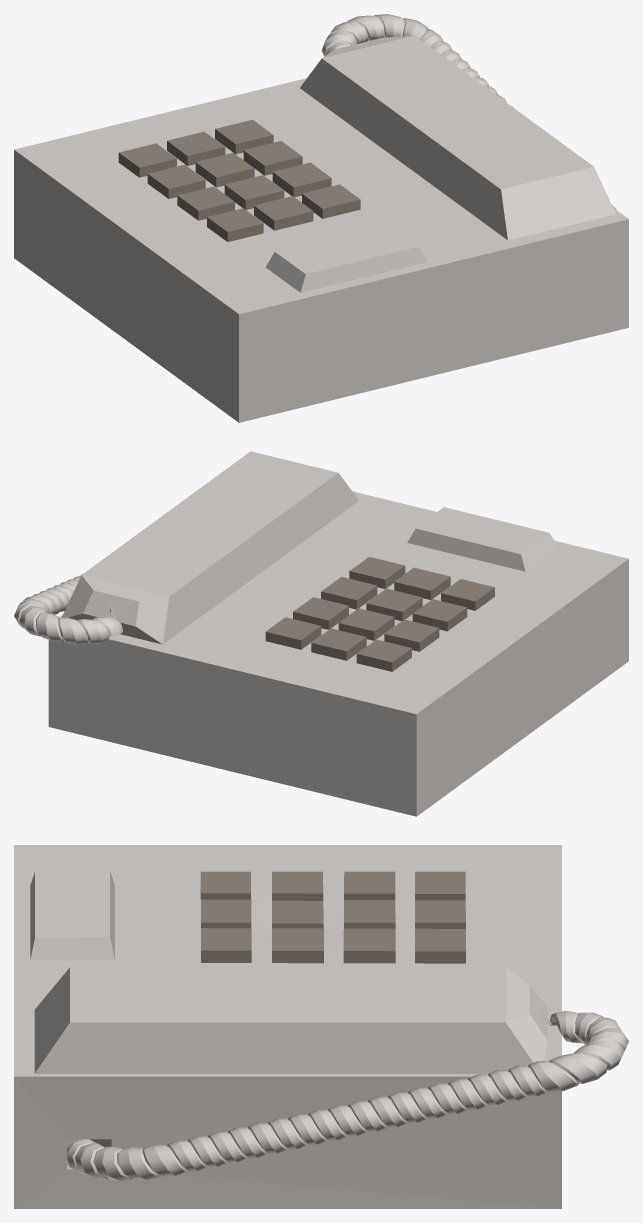
Rendered from fbx_landline_phone.fbx.
3 views of the same model, one above another, from view 1: azimuth 30°, elevation 25°; view 2: azimuth 150°, elevation 25°; view 3: azimuth 270°, elevation 25° (orthographic). The views are drawn at different scales.
Parts seen in each view (by area): view 1: fbx_landline_phone; view 2: fbx_landline_phone; view 3: fbx_landline_phone.
Part boxes in pixels (left/top/right/bottom): fbx_landline_phone: left=14, top=14, right=628, bottom=422; fbx_landline_phone: left=14, top=451, right=628, bottom=816; fbx_landline_phone: left=14, top=845, right=628, bottom=1208.
Size of the model in its own units: 0.371 by 0.1185 by 0.3688.
1 material, 1 textured.
